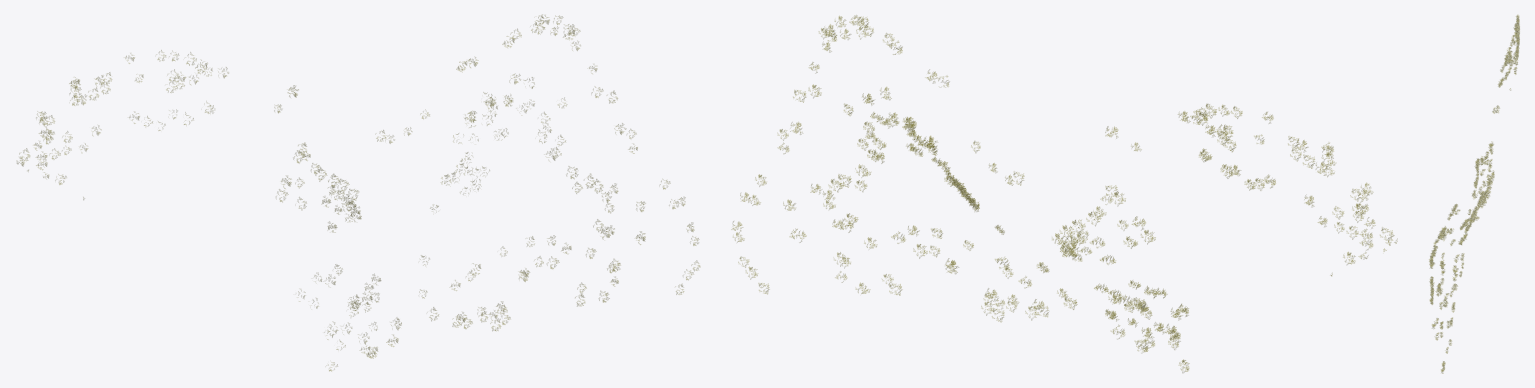
The model's file is sibljak.glb.
3 views of the same model, side by side, from view 1: azimuth 30°, elevation 25°; view 2: azimuth 150°, elevation 25°; view 3: azimuth 270°, elevation 25° (orthographic). The views are drawn at different scales.
Parts seen in each view (by area): view 1: Background_Tree_Atlas.009_Forest_Bush_0; view 2: Background_Tree_Atlas.009_Forest_Bush_0; view 3: Background_Tree_Atlas.009_Forest_Bush_0.
Part boxes in pixels (box(x1,y1,x2,y2)): Background_Tree_Atlas.009_Forest_Bush_0: box(17, 14, 700, 371); Background_Tree_Atlas.009_Forest_Bush_0: box(731, 15, 1397, 372); Background_Tree_Atlas.009_Forest_Bush_0: box(1429, 15, 1519, 373).
Size of the model in its own units: 214 by 104 by 43.77.
1 material, 1 textured.
